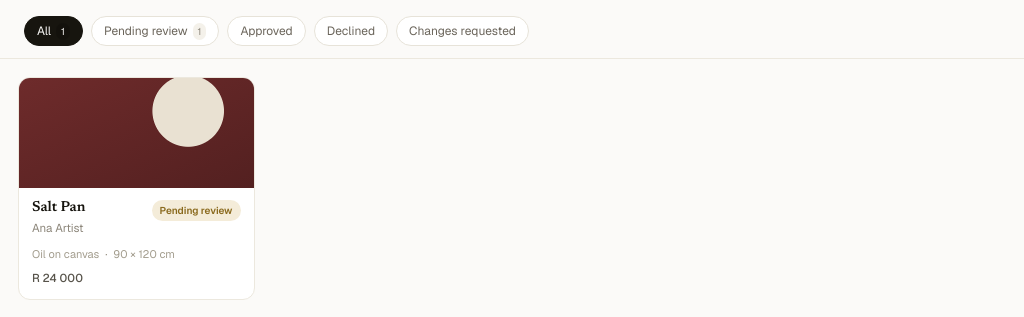
Test: SubmissionsPanel list and filters › explains an empty filter and shows no count for it
The width and height of the screenshot is (1024, 317).
Click the button "Declined".
click(351, 31)  # box [314,16,388,46]
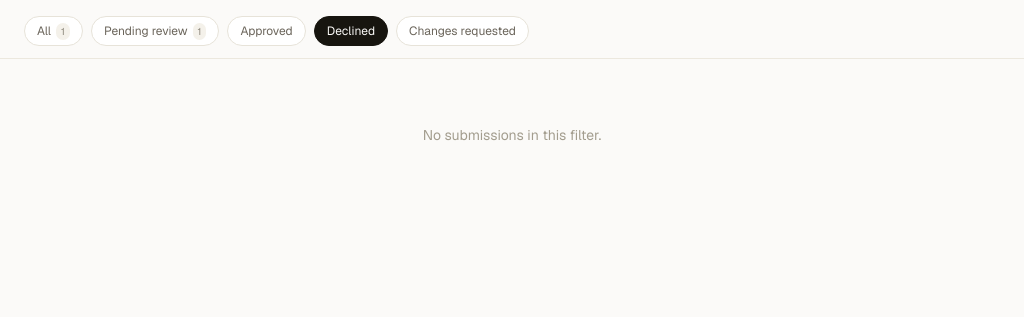
Expected: the text "No submissions in this filter." is shown, [423,126,601,144]
